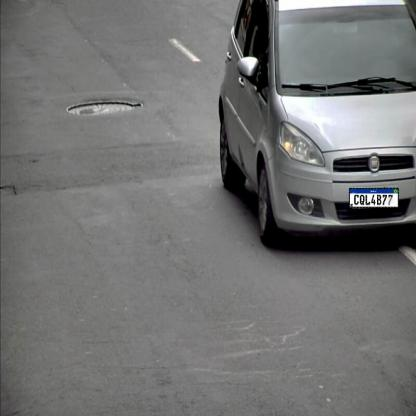PlacaM: (349, 188, 399, 208)
